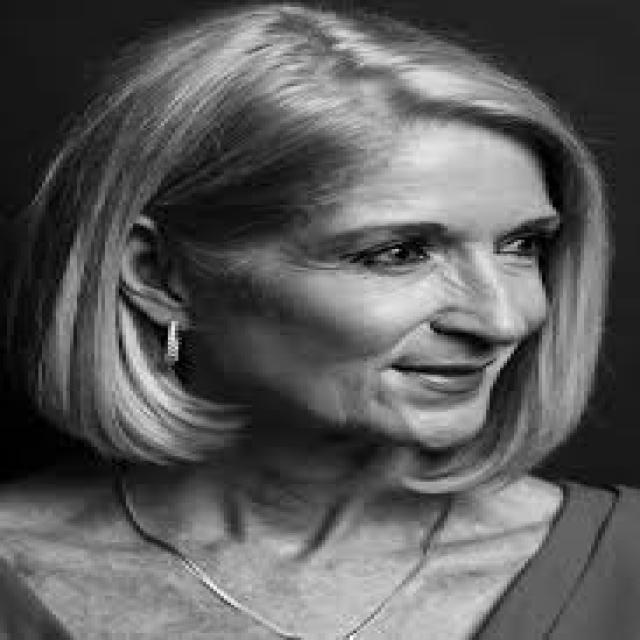Wrinkles: (290, 248, 343, 269), (443, 272, 478, 294), (289, 265, 316, 273)
